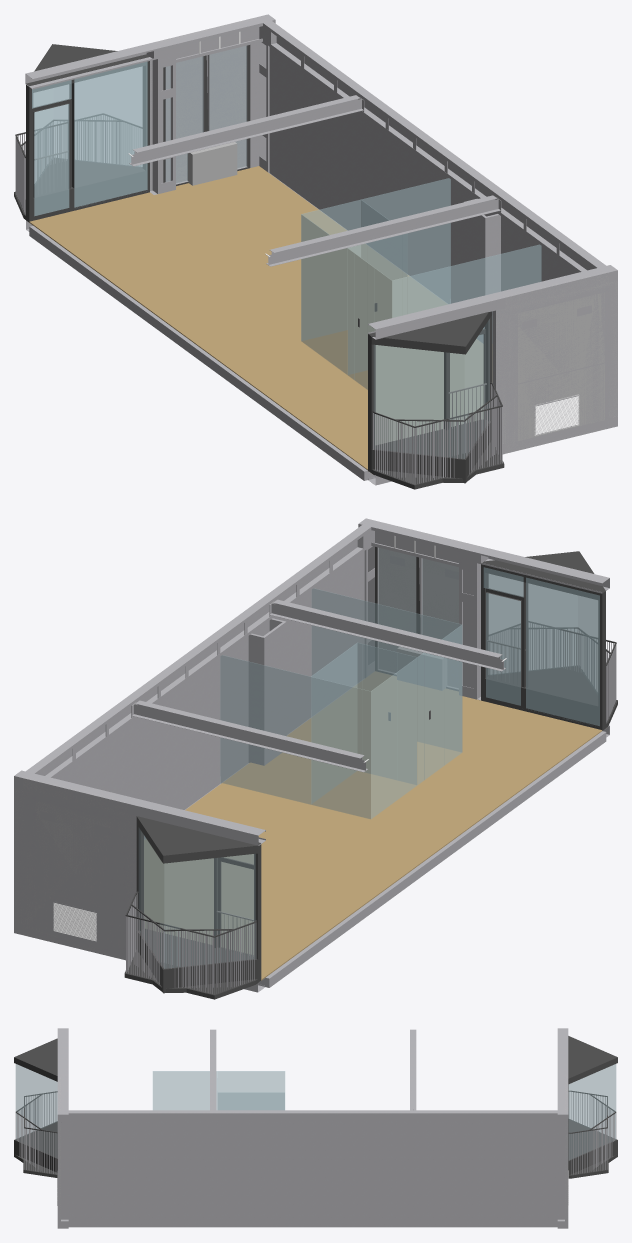
Rendered from customization.fbx.
3 renders of one model, top to bottom at view 1: azimuth 30°, elevation 25°; view 2: azimuth 150°, elevation 25°; view 3: azimuth 270°, elevation 25°, orthographic. The views are drawn at different scales.
Visible parts, largest first — view 1: ___B1, Group419, Model, Group129, Group200, Group238, Group1, Group37, Group211, Group318, Group32, Group241 (+7 smaller); view 2: ___B1, Group419, Model, Group37, Group246, Group29, Group409, Group129, Group210, Group2, Group241, Group32 (+8 smaller); view 3: ___B1, Group29, Group238, Group32, Group33, Group241, Group242, Group1, Group210, Group319, Group38, Model.
Boxes of the visible parts, <box> form: ___B1: <box>25,14,617,485</box>; Group419: <box>29,166,492,473</box>; Model: <box>150,18,617,453</box>; Group129: <box>29,56,149,221</box>; Group200: <box>32,61,149,216</box>; Group238: <box>374,319,489,458</box>; Group1: <box>494,270,617,453</box>; Group37: <box>368,328,485,471</box>; Group211: <box>163,45,250,185</box>; Group318: <box>75,62,146,203</box>; Group32: <box>33,158,145,218</box>; Group241: <box>371,419,491,483</box>; ___B1: <box>14,518,609,992</box>; Group419: <box>144,671,602,980</box>; Model: <box>14,522,477,960</box>; Group37: <box>481,562,604,730</box>; Group246: <box>484,568,599,725</box>; Group29: <box>139,828,255,968</box>; Group409: <box>509,578,602,729</box>; Group129: <box>144,836,260,953</box>; Group210: <box>14,775,136,959</box>; Group2: <box>375,547,458,690</box>; Group241: <box>485,666,597,725</box>; Group32: <box>136,928,257,993</box>; ___B1: <box>57,1028,568,1228</box>; Group29: <box>568,1064,616,1159</box>; Group238: <box>15,1064,57,1157</box>; Group32: <box>568,1119,617,1174</box>; Group33: <box>568,1036,617,1083</box>; Group241: <box>14,1121,57,1172</box>; Group242: <box>14,1038,57,1081</box>; Group1: <box>57,1074,63,1221</box>; Group210: <box>563,1074,568,1221</box>; Group319: <box>569,1160,608,1178</box>; Group38: <box>23,1159,57,1177</box>; Model: <box>58,1077,568,1217</box>.
Bounding box in the file's own units: 4955 × 3000 × 14403.
